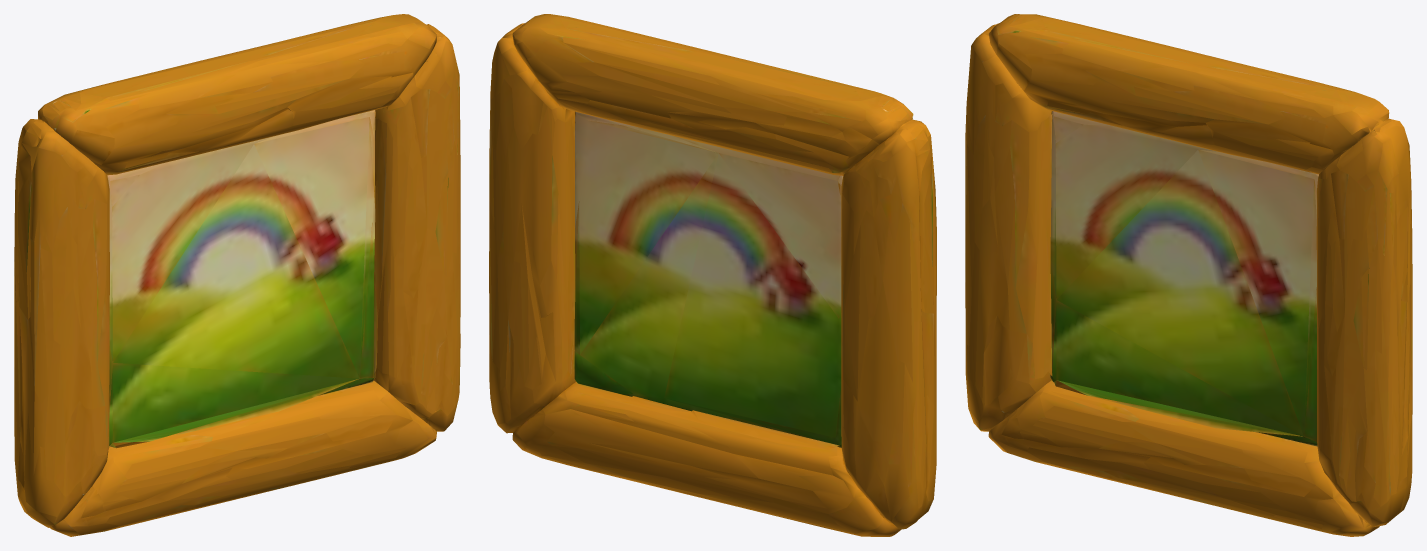
Rendered from picture.glb.
3 renders of one model, left to right at view 1: azimuth 30°, elevation 25°; view 2: azimuth 150°, elevation 25°; view 3: azimuth 330°, elevation 25°, orthographic.
Parts seen in each view (by area): view 1: picture; view 2: picture; view 3: picture.
Boxes of the visible parts, x1,y1,x2,y2 form: picture: (14, 14, 460, 536); picture: (489, 14, 936, 536); picture: (965, 14, 1412, 536).
Size of the model in its own units: 0.6455 by 0.62 by 0.0898.
1 material, 1 textured.
